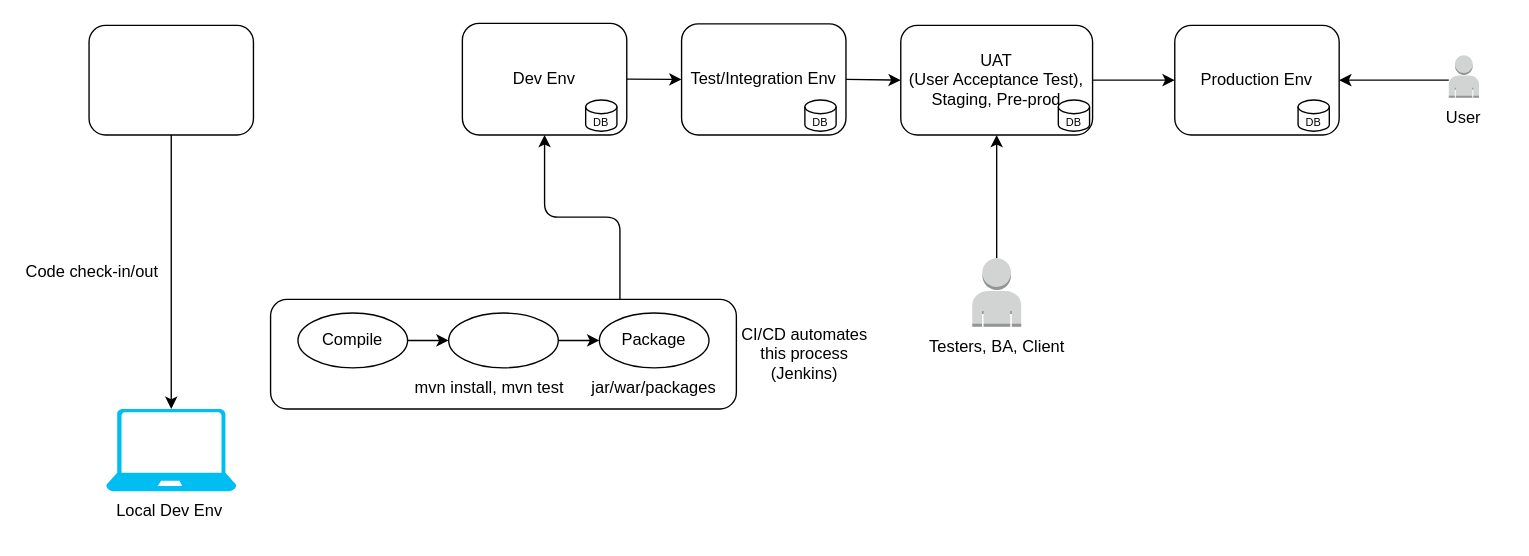
Image size: 1529x556. Some labels were removed from this diagram. The centre of each missing label's shape, as x and y in pixels:
Git/SVN Server - gitlab - bitbucket: the point at 170,79
Test: the point at 502,340
